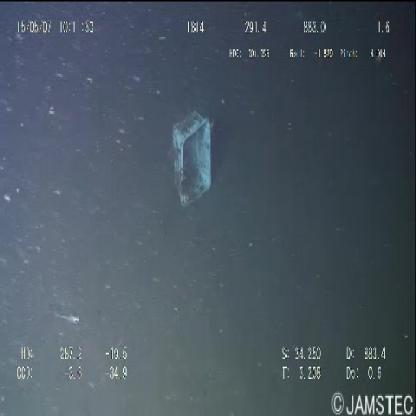Rác: (166, 100, 221, 211)
